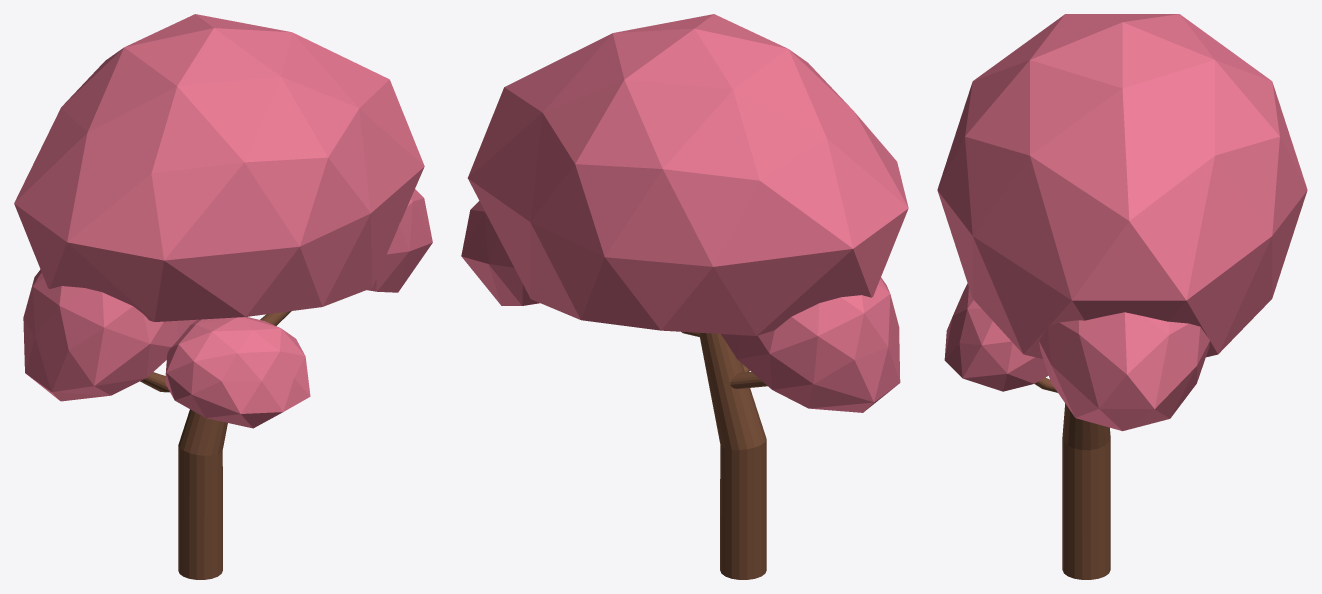
File: foresttree.fbx
The picture shows the model from 3 angles, left to right: view 1: azimuth 30°, elevation 25°; view 2: azimuth 150°, elevation 25°; view 3: azimuth 270°, elevation 25°; orthographic projection. The views are drawn at different scales.
Parts seen in each view (by area): view 1: leaf, trunk; view 2: leaf, trunk; view 3: leaf, trunk.
Part boxes in pixels (x1,y1,x2,y2): leaf: (14,14,432,428); trunk: (140,311,291,579); leaf: (461,14,908,412); trunk: (681,331,767,579); leaf: (937,14,1307,431); trunk: (1034,377,1110,579).
Size of the model in its own units: 418 by 530 by 315.
